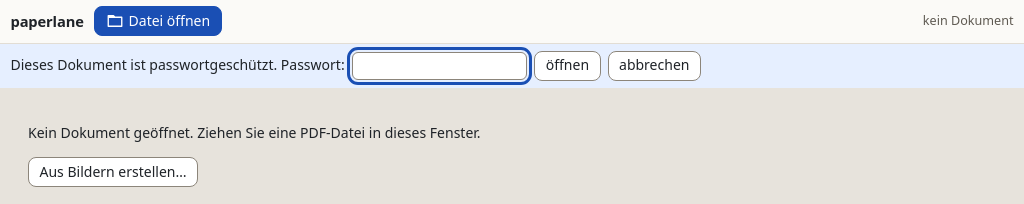
Test: Fehler- und Randfaelle › schliesst die Abfrage nach der Eingabe
Type "geheim" into the password field with test id "passwort-feld". click: (439, 66)
box: [352, 52, 527, 80]
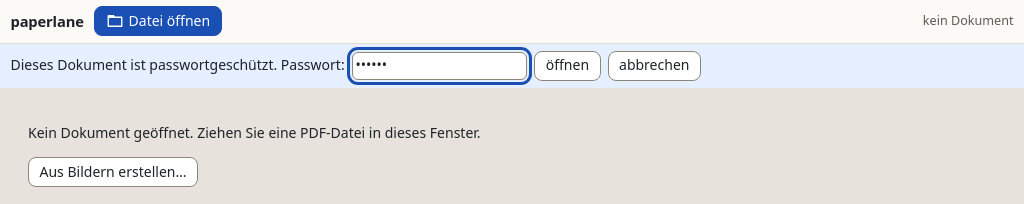
Click the button with test id "passwort-ok". click: (567, 66)
box: [534, 51, 600, 81]
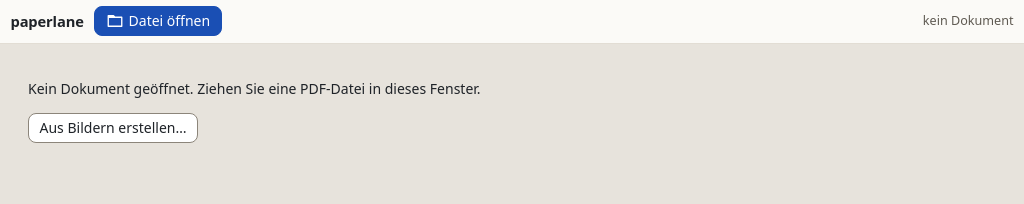
Expected: the form with test id "passwort-abfrage" is gone
